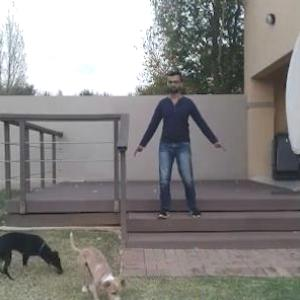land: (137, 74, 220, 229)
